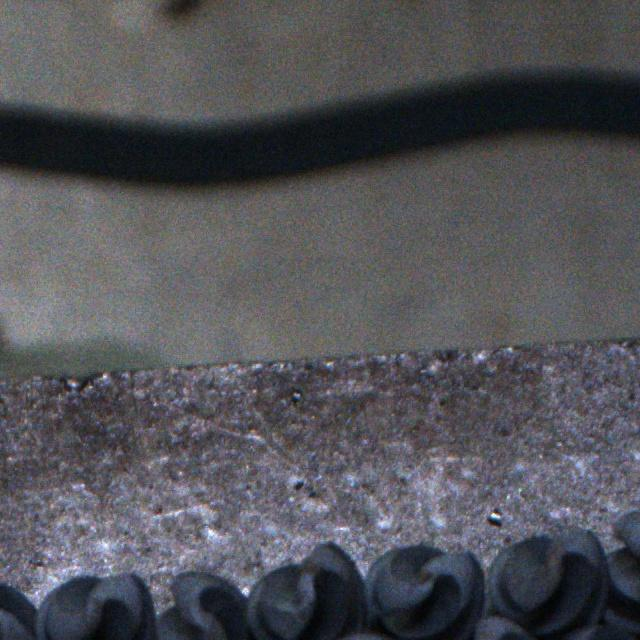tool_b: (486, 525, 610, 639), (245, 538, 366, 638), (362, 548, 484, 640), (32, 573, 153, 640), (150, 572, 251, 640), (604, 509, 640, 636), (446, 615, 548, 640), (0, 584, 39, 640)
